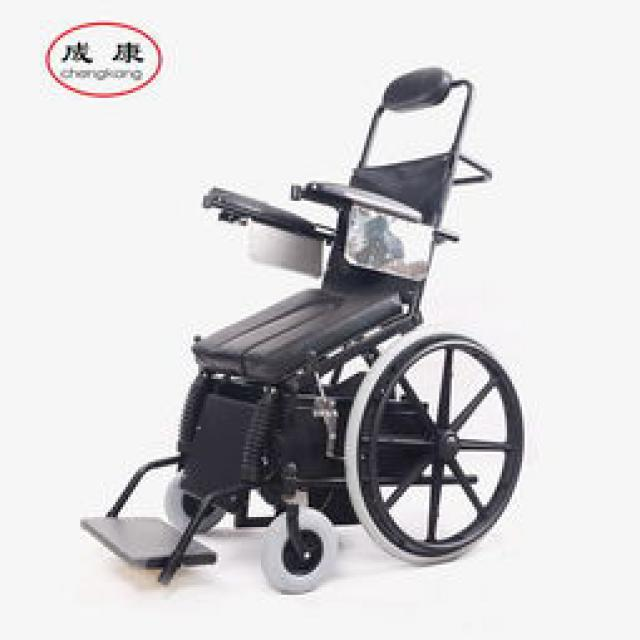wheelchair: (82, 60, 510, 602)
